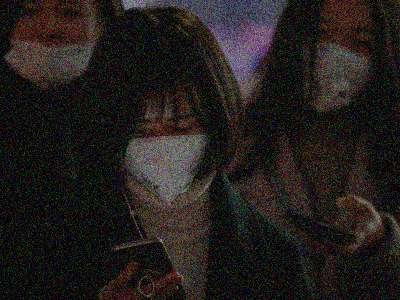mask_weared_incorrect: (2, 2, 102, 91)
with_mask: (117, 100, 212, 204), (297, 12, 379, 114)
